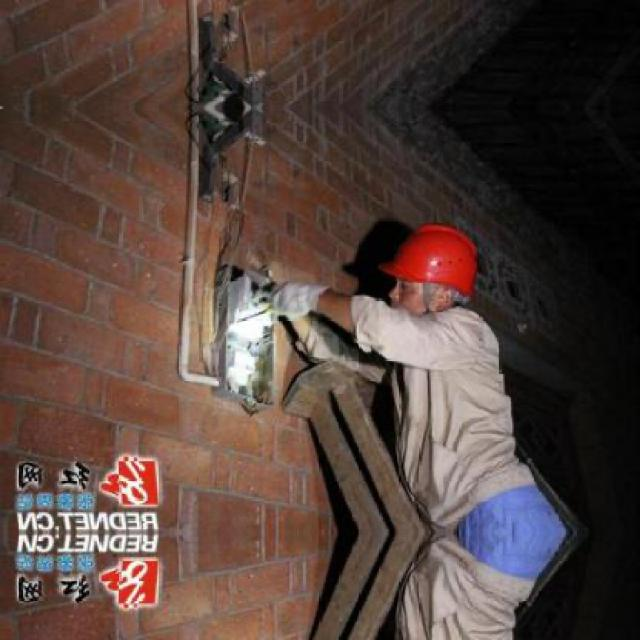helmet: (383, 220, 488, 322)
